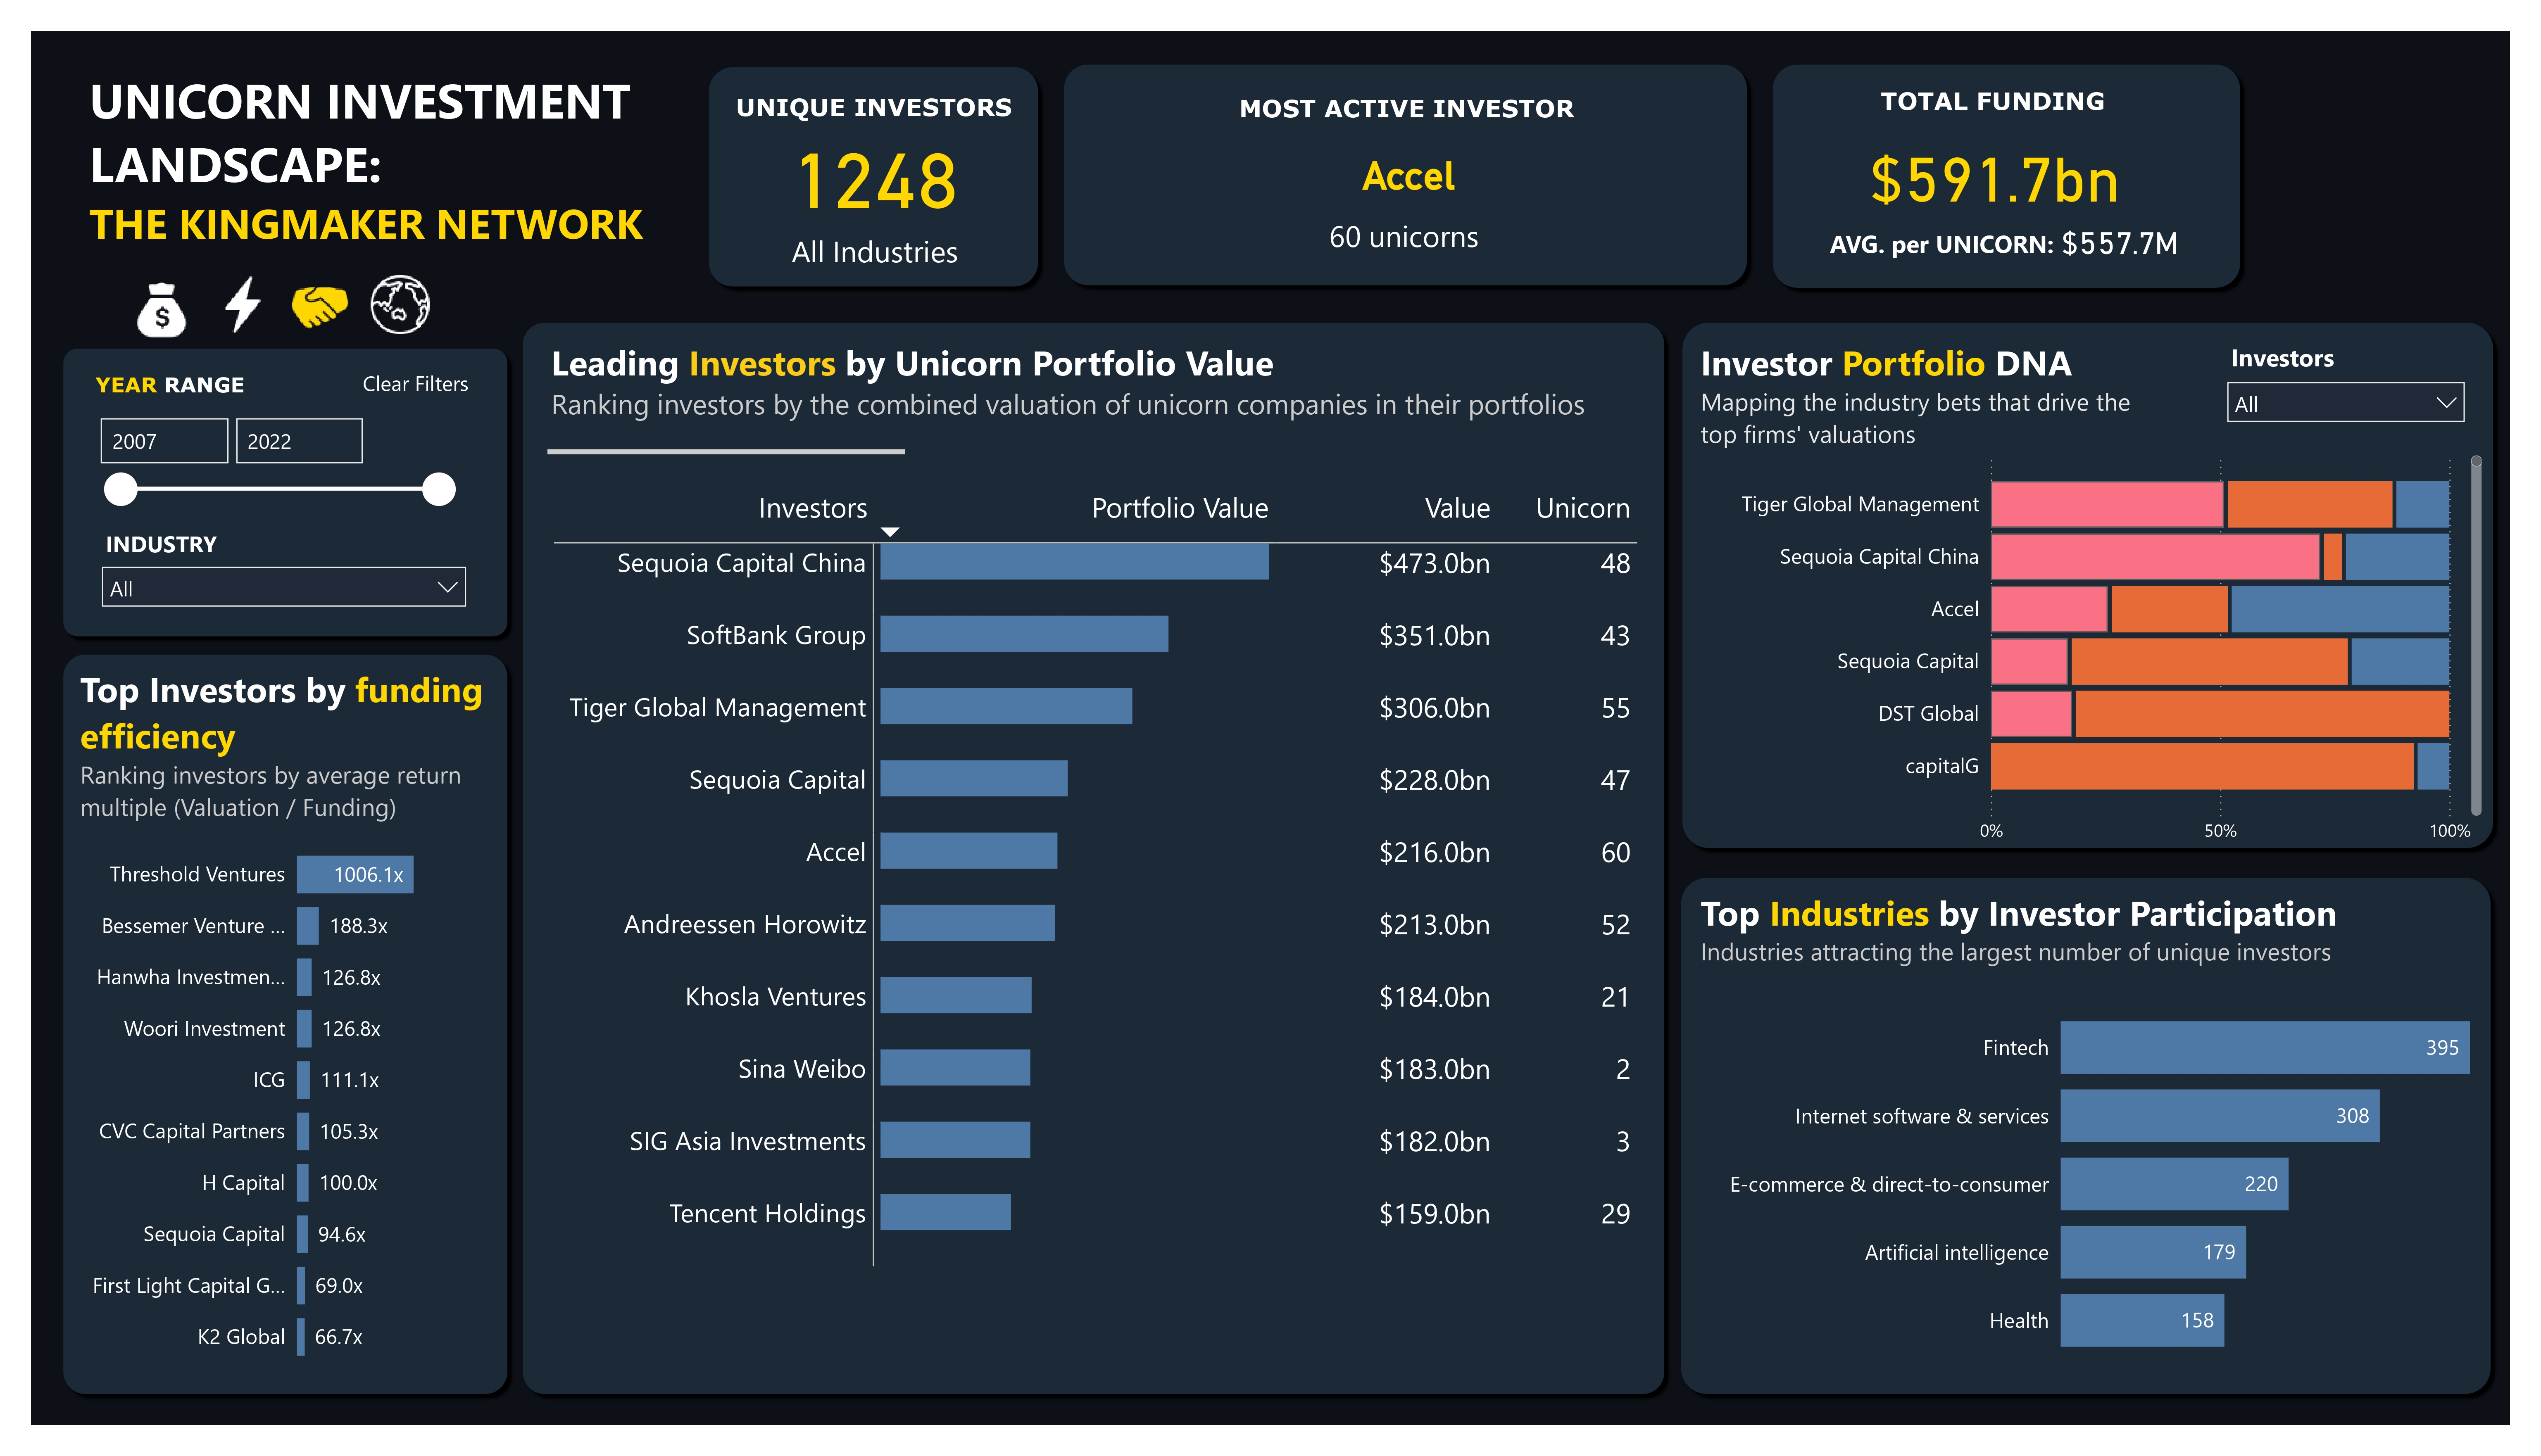

The page's visual inventory and layout, read from the dashboard file:
{"tool":"powerbi","page":{"name":"Investors","canvas":[1280,720],"ordinal":1},"visuals":[{"type":"actionButton","box":[9.9,74.3,51.2,39.6],"z":0},{"type":"textbox","box":[9.6,12.4,260.1,81.2],"z":1000},{"type":"shape","box":[247.7,16.5,62.8,102.4],"z":2000},{"type":"card","title":"Funding","fields":{"Values":["Sum(Table1. Valuation $ )"]},"box":[310.5,16.5,188.3,89.2],"z":3000},{"type":"card","title":"Valuation","fields":{"Values":["Sum(Table1. Funding $ )"]},"box":[498.8,16.5,170.1,89.2],"z":4000},{"type":"card","title":"# of Investors","fields":{"Values":["Count(Table1.InvestorName)"]},"box":[668.9,16.5,130.5,89.2],"z":5000},{"type":"slicer","fields":{"Values":["Table1.Date Joined.Variation.Date Hierarchy.Year"]},"box":[1055.4,16.5,196.5,76],"z":6000},{"type":"clusteredColumnChart","title":"Top Investors","fields":{"Category":["Table1.InvestorName"],"Y":["Sum(Table1. Funding $ )"]},"box":[9.9,118.9,630.9,285.7],"z":7000},{"type":"clusteredColumnChart","title":"# of Companies Invested","fields":{"Category":["Table1.InvestorName"],"Y":["Count(Table1.Company)"]},"box":[640.8,118.9,639.2,285.7],"z":8000},{"type":"tableEx","fields":{"Values":["Table1.InvestorName","Table1.Industry","Sum(Table1. Funding $ )"]},"box":[13.2,414.6,627.6,285.7],"z":9000},{"type":"clusteredColumnChart","title":"# of Investors by Country","fields":{"Category":["Table1.Country"],"Y":["Count(Table1.InvestorName)"]},"box":[641,415,639,286],"z":10000},{"type":"slicer","fields":{"Values":["Table1.Industry"]},"box":[848.9,14.9,186.6,79.3],"z":11000}]}

Visuals, with their boxes in screenshot pixels (x1, y1, x2, y2), scaled from the page's 1280x720 canvas onto the 2541x1456 screenshot:
actionButton: [x1=20, y1=150, x2=121, y2=230]
textbox: [x1=19, y1=25, x2=535, y2=189]
shape: [x1=492, y1=33, x2=616, y2=240]
"Funding" card: [x1=616, y1=33, x2=990, y2=214]
"Valuation" card: [x1=990, y1=33, x2=1328, y2=214]
"# of Investors" card: [x1=1328, y1=33, x2=1587, y2=214]
slicer - Table1.Date Joined.Variation.Date Hierarchy.Year: [x1=2095, y1=33, x2=2485, y2=187]
"Top Investors" clusteredColumnChart: [x1=20, y1=240, x2=1272, y2=818]
"# of Companies Invested" clusteredColumnChart: [x1=1272, y1=240, x2=2541, y2=818]
tableEx - Table1.InvestorName x Table1.Industry: [x1=26, y1=838, x2=1272, y2=1416]
"# of Investors by Country" clusteredColumnChart: [x1=1273, y1=839, x2=2541, y2=1418]
slicer - Table1.Industry: [x1=1685, y1=30, x2=2056, y2=190]
